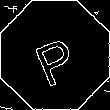P_NW: (28, 25, 82, 85)
